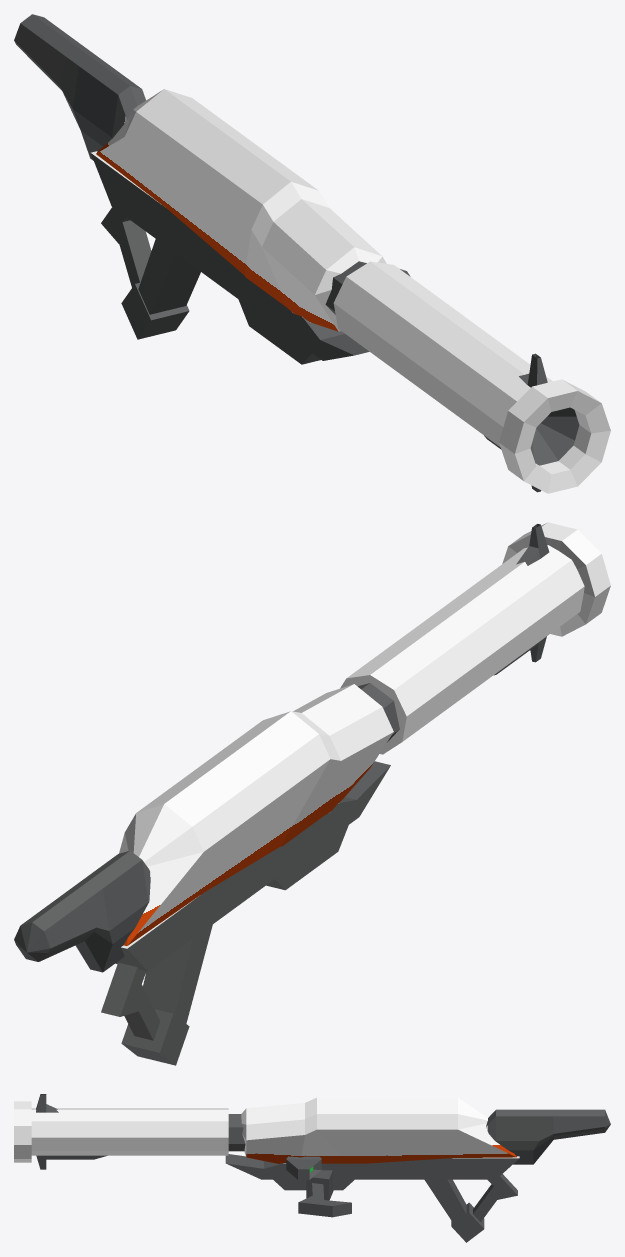
File: rocketlauncher.obj
3 views of the same model, one above another, from view 1: azimuth 30°, elevation 25°; view 2: azimuth 150°, elevation 25°; view 3: azimuth 270°, elevation 25° (orthographic). The views are drawn at different scales.
Visible parts, largest first — view 1: tube; view 2: tube; view 3: tube.
Boxes of the visible parts, x1,y1,x2,y2 form: tube: (14, 14, 610, 493); tube: (14, 522, 610, 1065); tube: (14, 1094, 610, 1242).
Size of the model in its own units: 0.6089 by 0.8391 by 3.17.
1 material, 1 textured.
